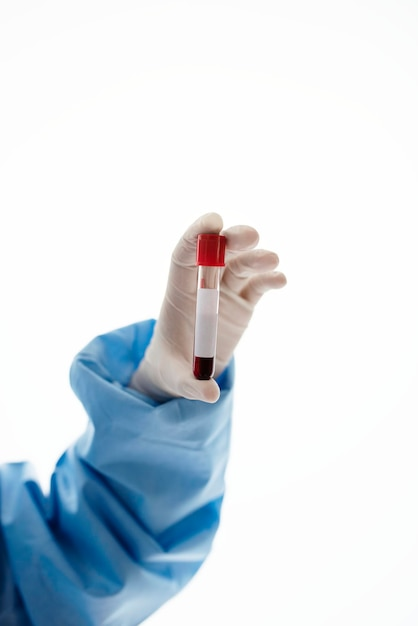blood: (191, 356, 216, 380)
